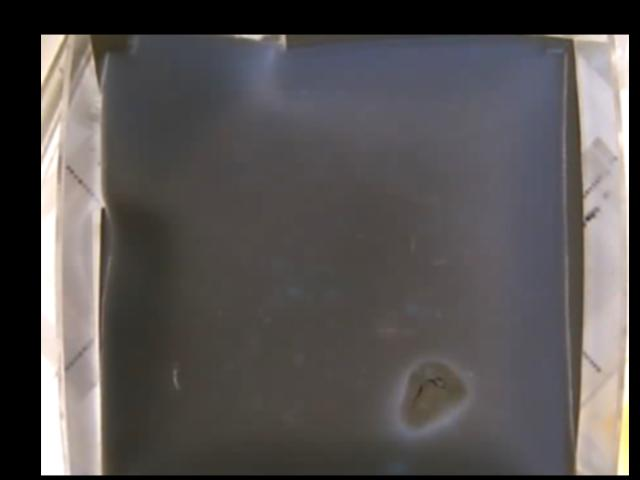Pebble: (398, 357, 466, 430)
